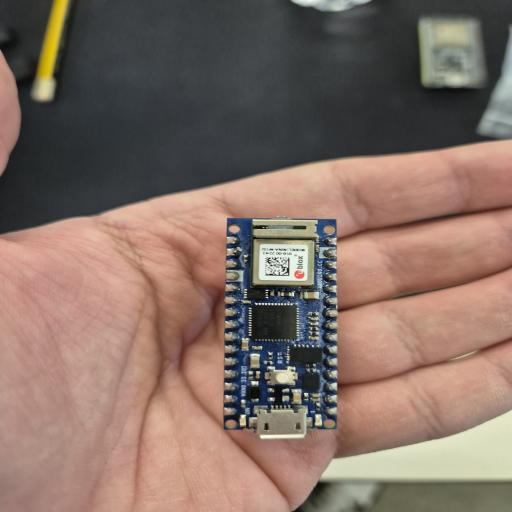arduino-nano-iot-33: (226, 218, 338, 430)
